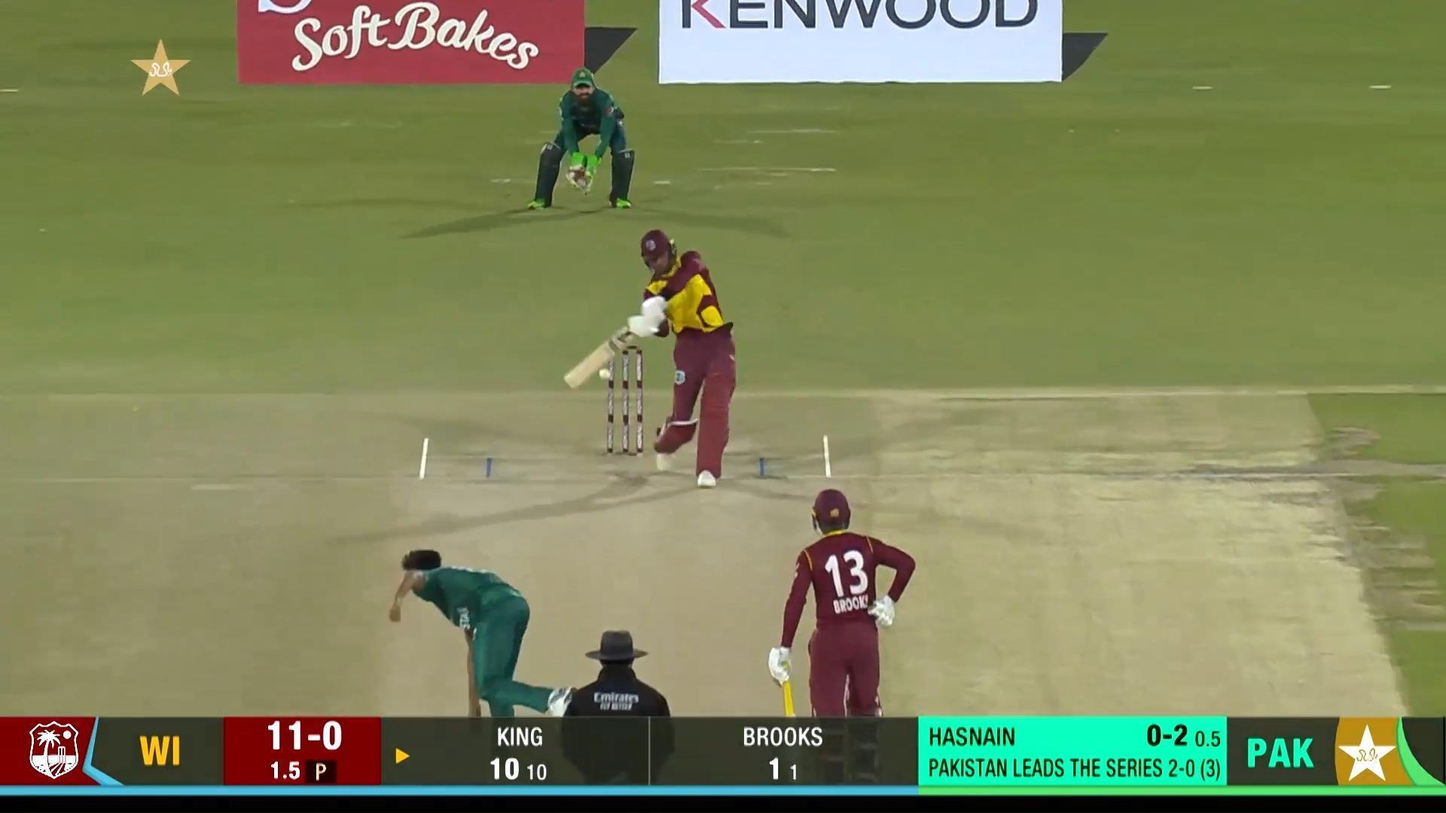BM 1: (563, 230, 736, 489)
BO: (391, 547, 579, 717)
